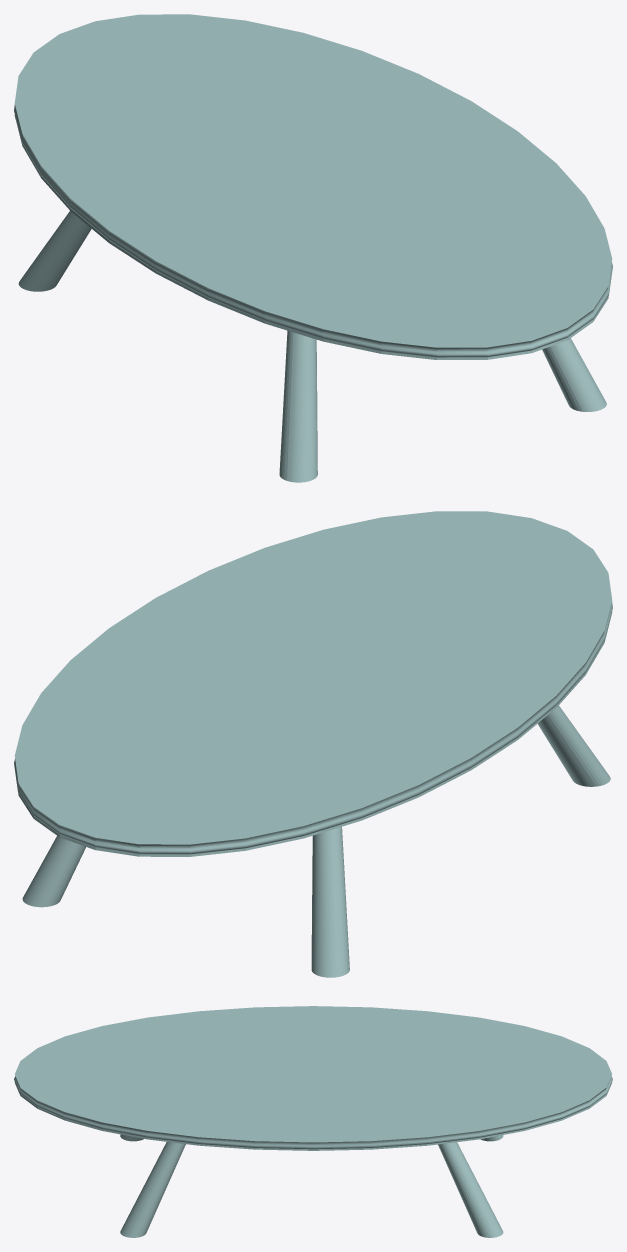
File: LivingRoomTable.fbx
The picture shows the model from 3 angles, top to bottom: view 1: azimuth 30°, elevation 25°; view 2: azimuth 150°, elevation 25°; view 3: azimuth 270°, elevation 25°; orthographic projection. The views are drawn at different scales.
Visible parts, largest first — view 1: Circle; view 2: Circle; view 3: Circle.
Boxes of the visible parts, x1,y1,x2,y2 form: Circle: (14, 14, 612, 482); Circle: (14, 511, 612, 977); Circle: (14, 1006, 612, 1237).
Size of the model in its own units: 108 by 40.8 by 200.
